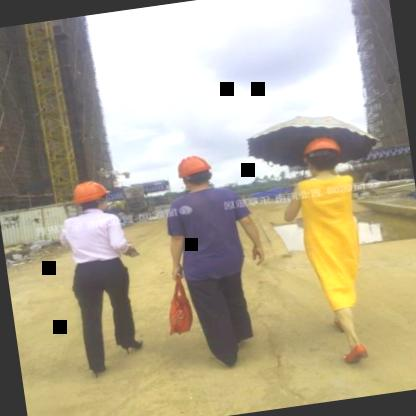helmet: (294, 134, 347, 182), (172, 152, 219, 197), (64, 176, 113, 218)
